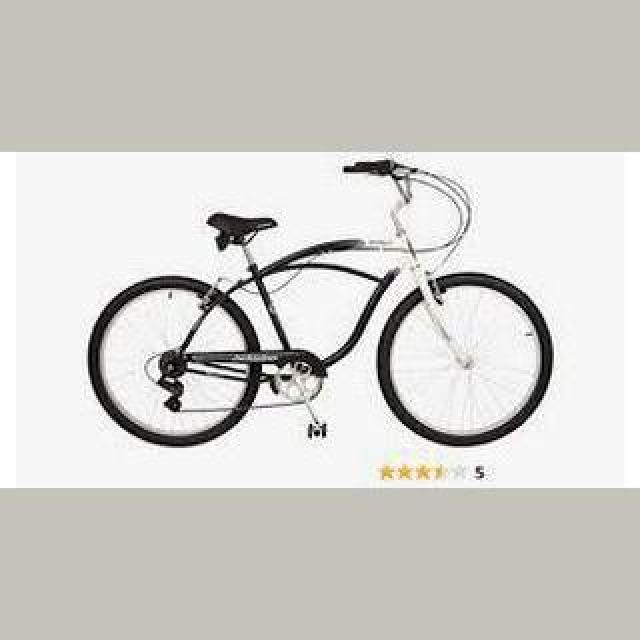Person: (89, 157, 557, 457)
